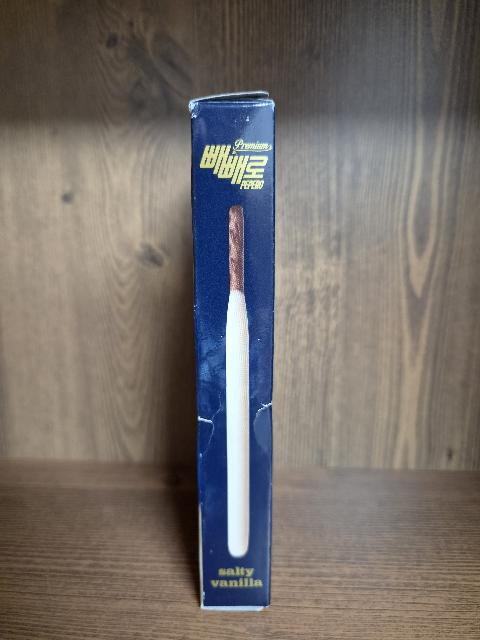pepero: (189, 91, 275, 611)
